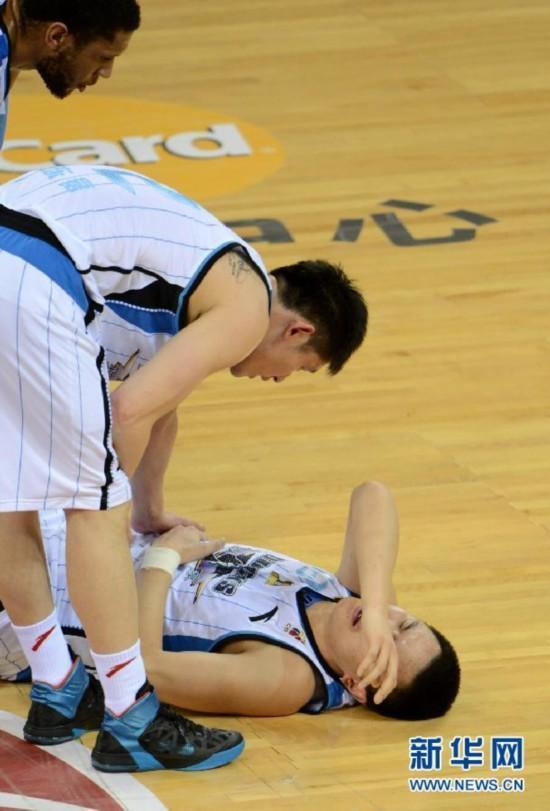Fall-Detected: (10, 483, 479, 741)
